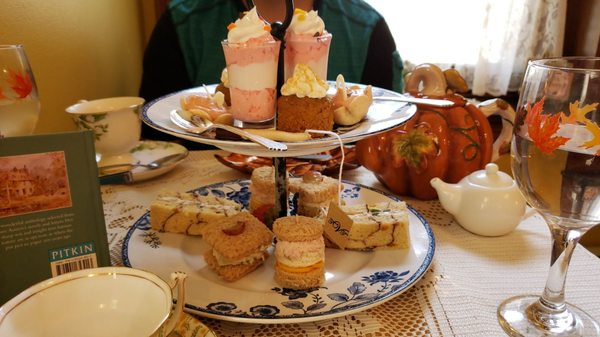sushi: (0, 266, 186, 334), (430, 166, 526, 237), (64, 96, 145, 156)
